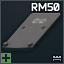P226 Trijicon RMR mount: (0, 0, 64, 64)
